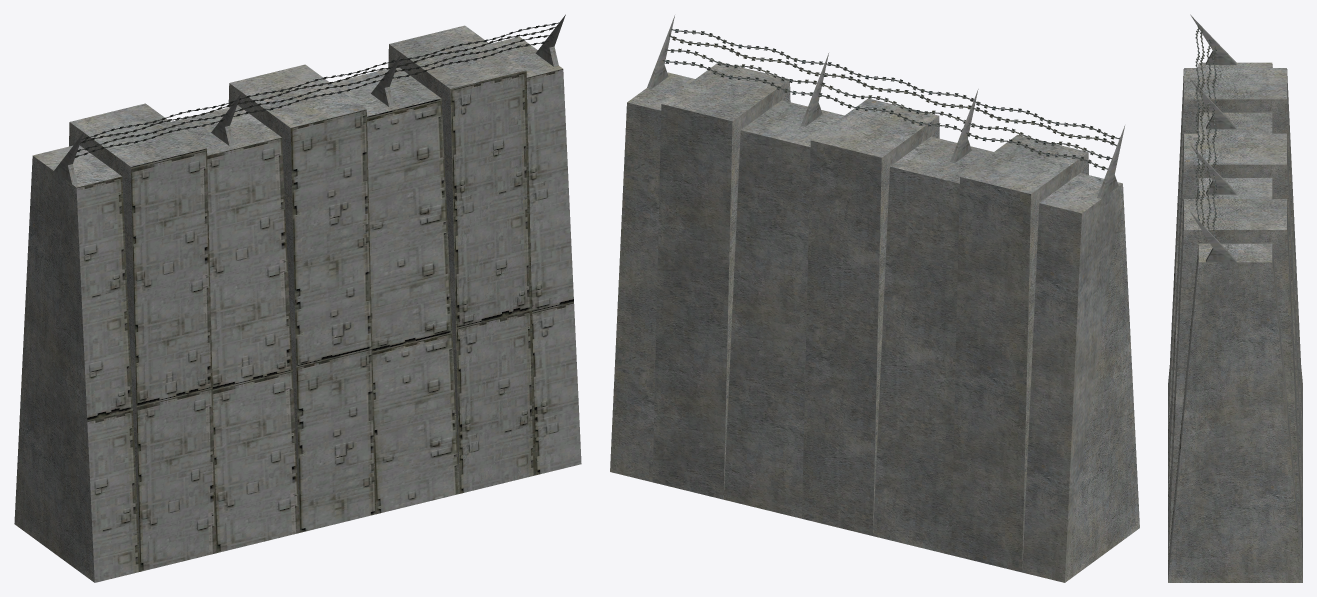
Rendered from mun_all_military_wall_strong_impl_s01_l1.fbx.
The picture shows the model from 3 angles, left to right: view 1: azimuth 30°, elevation 25°; view 2: azimuth 150°, elevation 25°; view 3: azimuth 270°, elevation 25°; orthographic projection. The views are drawn at different scales.
Visible parts, largest first — view 1: mesh_node; view 2: mesh_node; view 3: mesh_node.
Boxes of the visible parts, x1,y1,x2,y2 form: mesh_node: (14, 14, 581, 582); mesh_node: (610, 15, 1139, 582); mesh_node: (1168, 14, 1302, 582).
Size of the model in its own units: 8 by 6.93 by 2.29.
